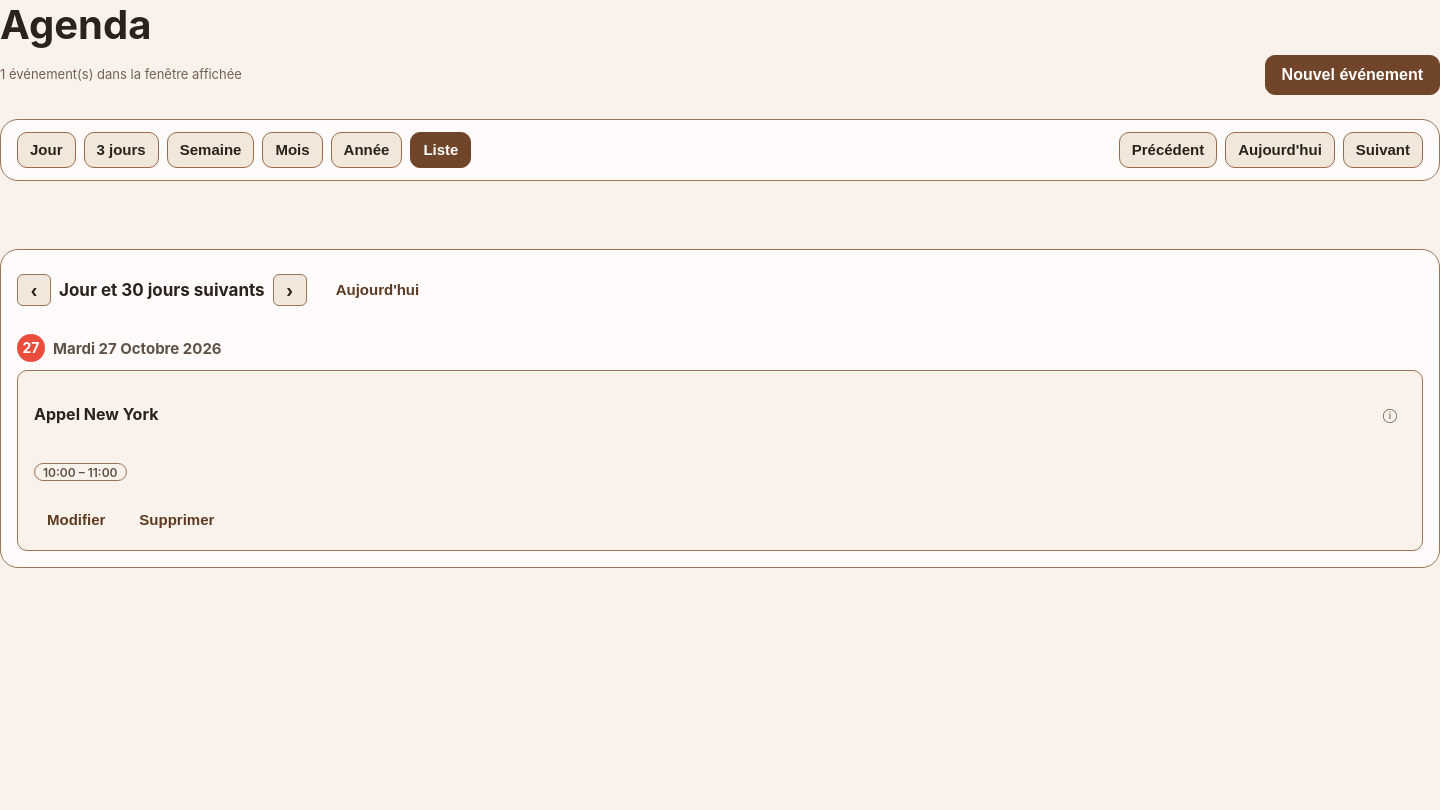
CalendarScreen — édition et suppression › édite un événement horaire sans changer son fuseau ni son instant
Expected: the heading "Appel New York" is shown, [34, 404, 158, 424]
Click the button with aria-label "Modifier « Appel New York »" at [76, 520], box [34, 502, 118, 538]
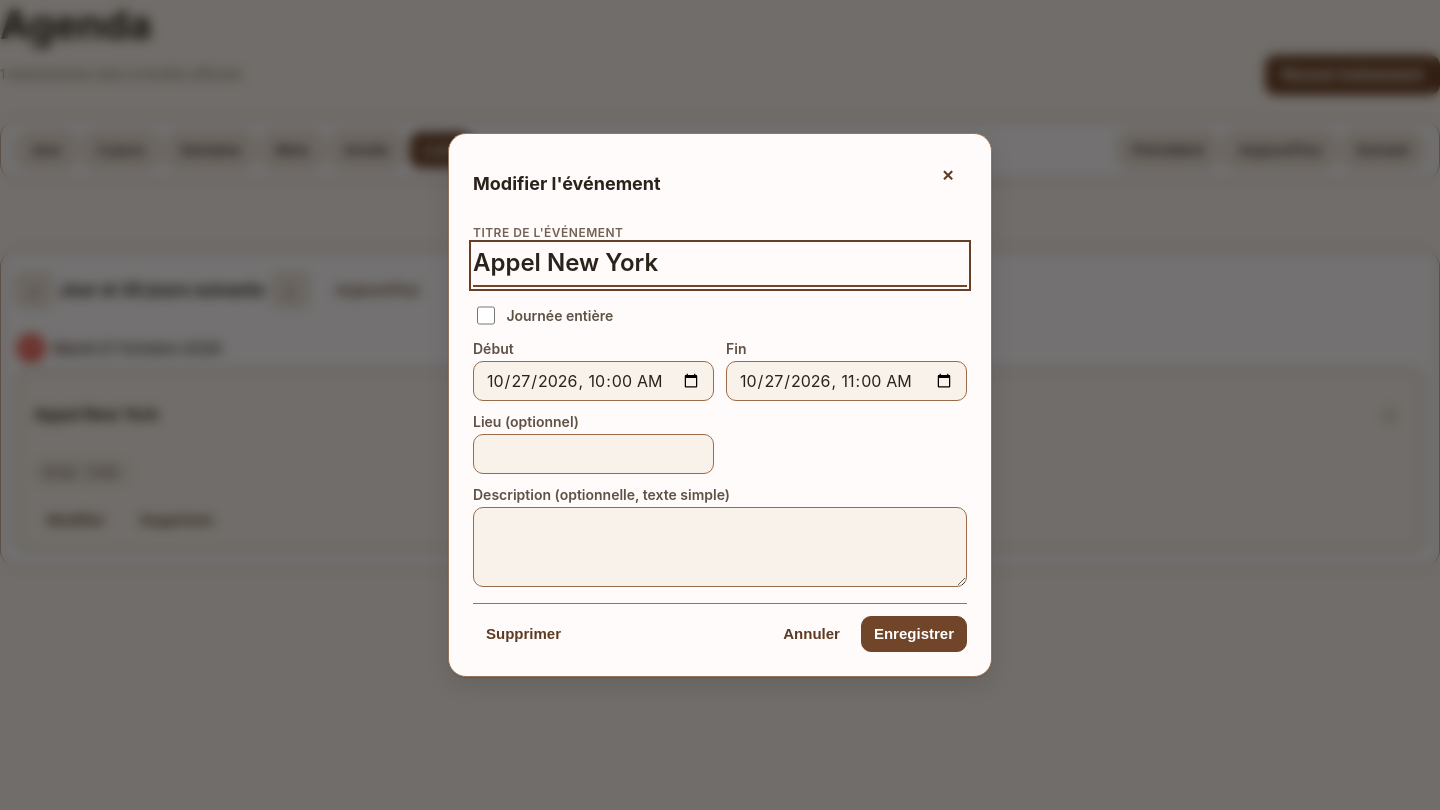
Replace the text in the field labelled "Titre de l'événement" with "Appel New York reporté" at [720, 266], box [473, 244, 967, 287]
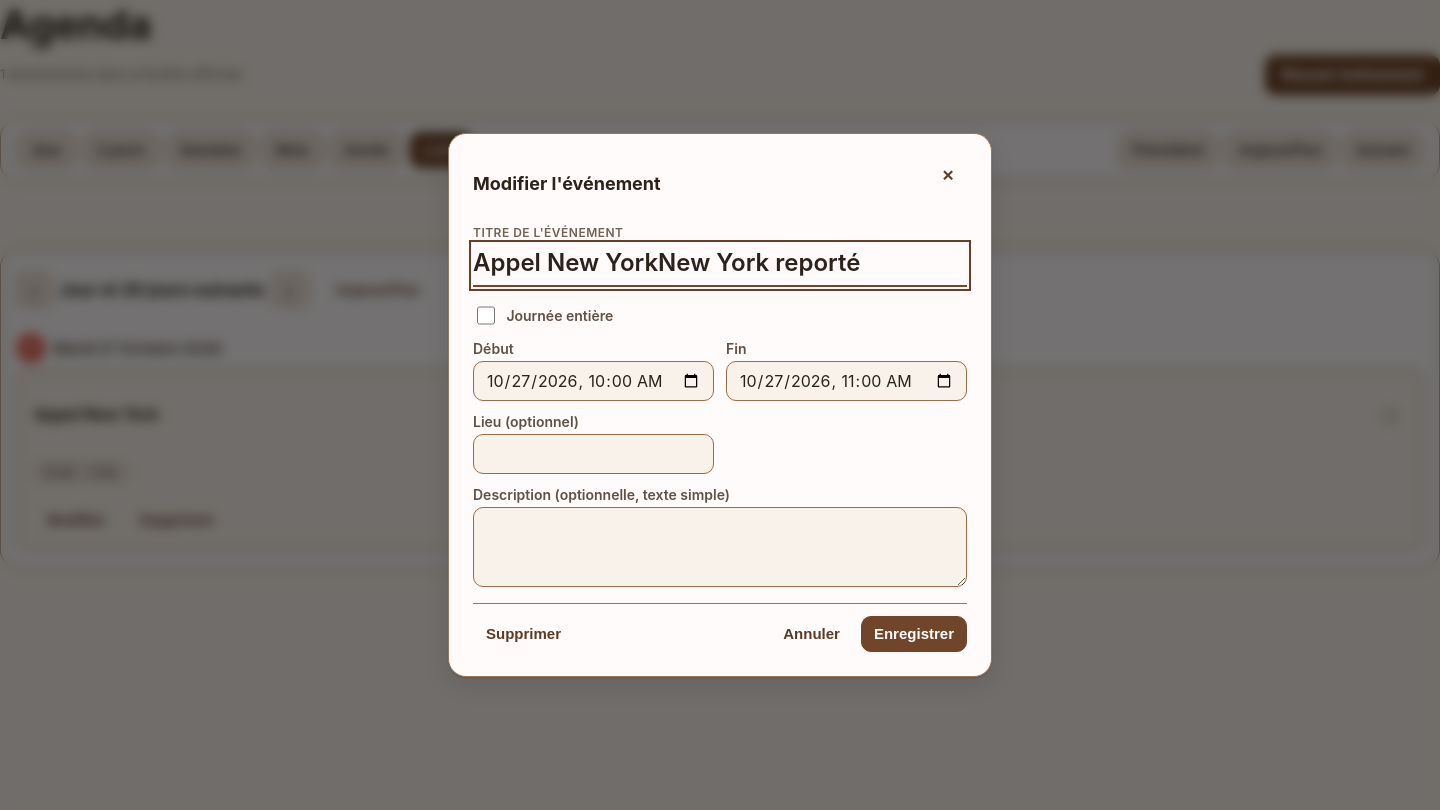
Click the button "Enregistrer" at [914, 634], box [861, 616, 967, 652]
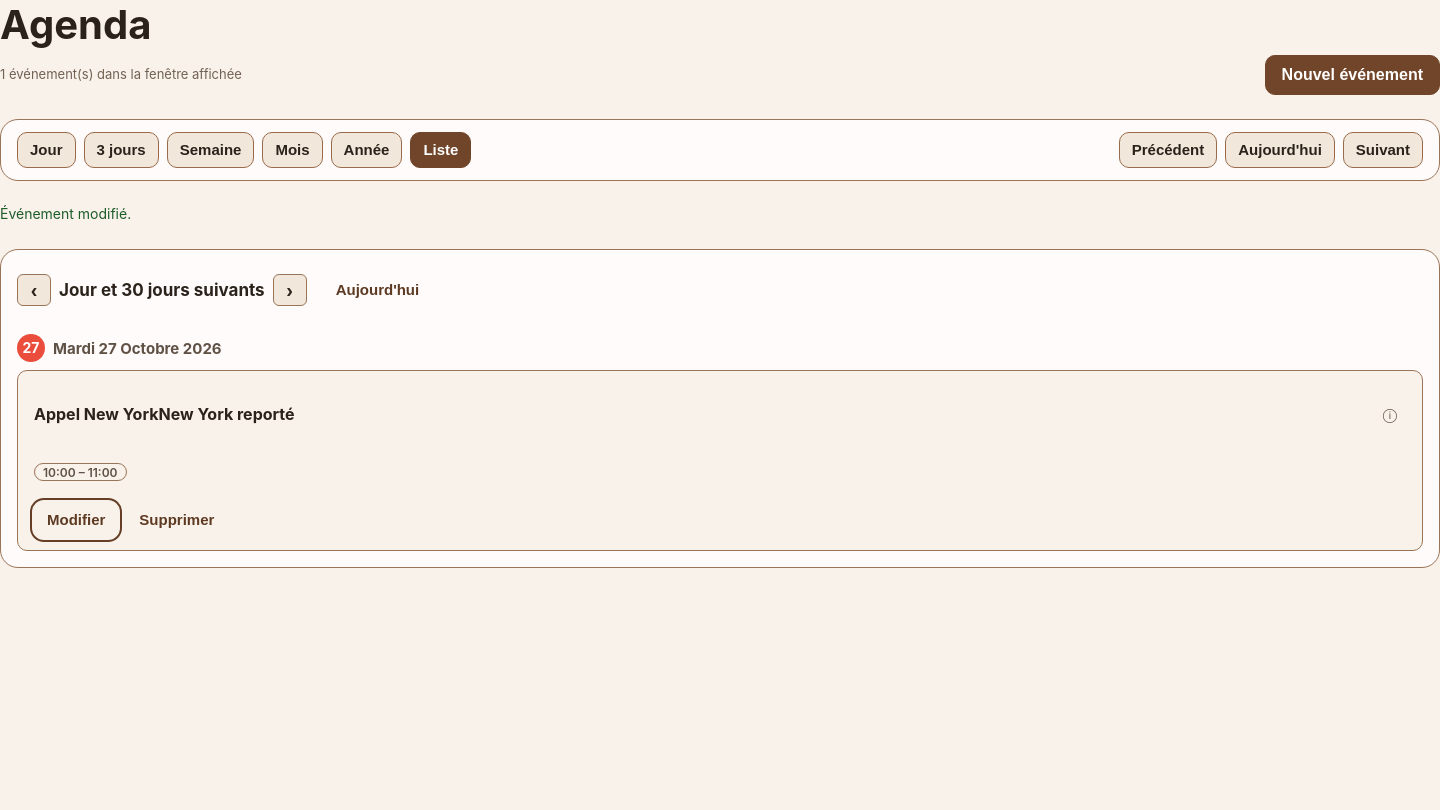
Expected: the text "Événement modifié." is shown, [0, 205, 131, 222]
